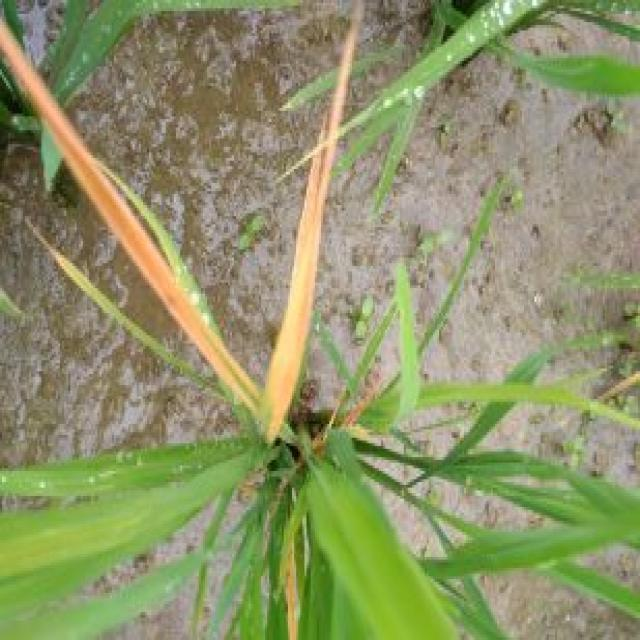Tungro: (0, 8, 255, 417), (267, 4, 370, 420)
